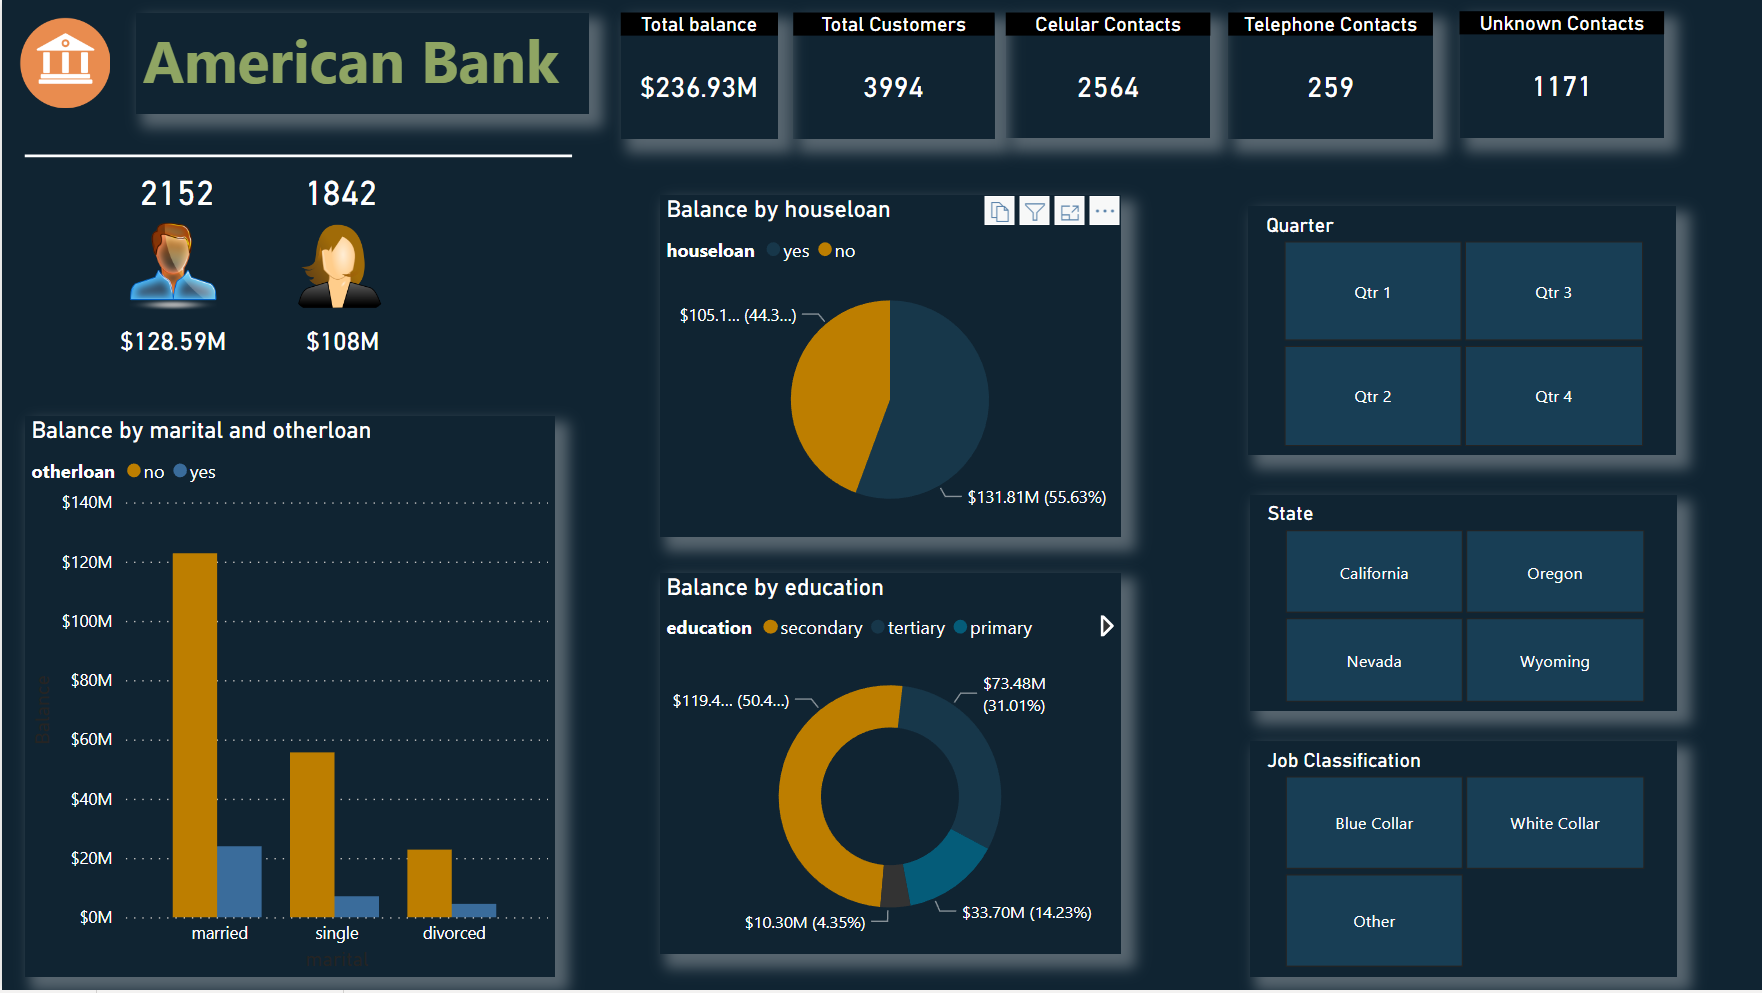

What the dashboard file says about the page in this screenshot:
{"tool":"powerbi","page":{"name":"Dashbaord","canvas":[1280,720],"ordinal":0},"visuals":[{"type":"image","box":[8,8,75,75],"z":0},{"type":"textbox","box":[97.5,9.6,326.9,74.2],"z":1000},{"type":"card","title":"Total  balance","fields":{"Values":["Sum(AmericaBankNew.Balance)"]},"box":[450.4,9.2,114,92],"z":2000},{"type":"card","title":"Total Customers","fields":{"Values":["Count(AmericaBankNew.Customer ID)"]},"box":[575.4,9.2,146,92],"z":3000},{"type":"card","title":"Celular Contacts","fields":{"Values":["Table.Cellular Contacts"]},"box":[730.4,9.2,149,91],"z":4000},{"type":"card","title":"Telephone Contacts","fields":{"Values":["Table.Telephone Contacts"]},"box":[891.4,9.2,149,92],"z":5000},{"type":"card","title":"Unknown Contacts","fields":{"Values":["Table.Unknown Contacts"]},"box":[1060,8,149,92],"z":6000},{"type":"image","box":[87,157,74,73],"z":7000},{"type":"image","box":[209,157,73,73],"z":8000},{"type":"card","fields":{"Values":["Table.Men Count"]},"box":[94,122,67,35],"z":9000},{"type":"card","fields":{"Values":["Table.Women Count"]},"box":[213,122,67,35],"z":10000},{"type":"card","fields":{"Values":["Table.Mens Balance"]},"box":[78,230,92,37],"z":11000},{"type":"card","fields":{"Values":["Table.Women Balance"]},"box":[204,230,88,37],"z":12000},{"type":"donutChart","fields":{"Category":["AmericaBankNew.education"],"Y":["Sum(AmericaBankNew.Balance)"]},"box":[478.4,416.5,335.6,277.3],"z":13000},{"type":"pieChart","fields":{"Category":["AmericaBankNew.houseloan"],"Y":["Sum(AmericaBankNew.Balance)"]},"box":[478.4,141.6,335.6,248.7],"z":14000},{"type":"clusteredColumnChart","fields":{"Category":["AmericaBankNew.marital"],"Y":["Sum(AmericaBankNew.Balance)"],"Series":["AmericaBankNew.otherloan"]},"box":[16.7,302.3,385.6,408.2],"z":15000},{"type":"slicer","fields":{"Values":["AmericaBankNew.Job Classification"]},"box":[907,539,311,171],"z":16000},{"type":"slicer","fields":{"Values":["AmericaBankNew.State"]},"box":[907,360,311,157],"z":17000},{"type":"slicer","fields":{"Values":["AmericaBankNew.Date Joined.Variation.Date Hierarchy.Quarter"]},"box":[906,150,311,181],"z":18000},{"type":"shape","box":[16.7,104.7,398.7,17.9],"z":19000}]}

Visuals, with their boxes in screenshot pixels (x1, y1, x2, y2), scaled from the page's 1280x720 canvas onto the 1762x993 screenshot:
image: pyautogui.locateOnScreen(11, 11, 114, 114)
textbox: pyautogui.locateOnScreen(134, 13, 584, 116)
"Total  balance" card: pyautogui.locateOnScreen(620, 13, 777, 140)
"Total Customers" card: pyautogui.locateOnScreen(792, 13, 993, 140)
"Celular Contacts" card: pyautogui.locateOnScreen(1005, 13, 1211, 138)
"Telephone Contacts" card: pyautogui.locateOnScreen(1227, 13, 1432, 140)
"Unknown Contacts" card: pyautogui.locateOnScreen(1459, 11, 1664, 138)
image: pyautogui.locateOnScreen(120, 217, 222, 317)
image: pyautogui.locateOnScreen(288, 217, 388, 317)
card - Table.Men Count: pyautogui.locateOnScreen(129, 168, 222, 217)
card - Table.Women Count: pyautogui.locateOnScreen(293, 168, 385, 217)
card - Table.Mens Balance: pyautogui.locateOnScreen(107, 317, 234, 368)
card - Table.Women Balance: pyautogui.locateOnScreen(281, 317, 402, 368)
donutChart - AmericaBankNew.education x Sum(AmericaBankNew.Balance): pyautogui.locateOnScreen(659, 574, 1121, 957)
pieChart - AmericaBankNew.houseloan x Sum(AmericaBankNew.Balance): pyautogui.locateOnScreen(659, 195, 1121, 538)
clusteredColumnChart - AmericaBankNew.marital x Sum(AmericaBankNew.Balance): pyautogui.locateOnScreen(23, 417, 554, 980)
slicer - AmericaBankNew.Job Classification: pyautogui.locateOnScreen(1249, 743, 1677, 979)
slicer - AmericaBankNew.State: pyautogui.locateOnScreen(1249, 496, 1677, 713)
slicer - AmericaBankNew.Date Joined.Variation.Date Hierarchy.Quarter: pyautogui.locateOnScreen(1247, 207, 1675, 457)
shape: pyautogui.locateOnScreen(23, 144, 572, 169)
